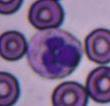N: (27, 31, 83, 79)
